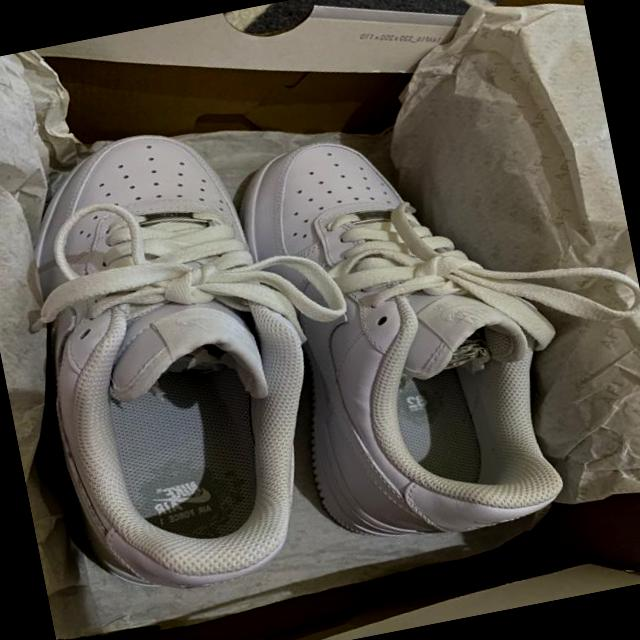nike_original_airforce: (0, 106, 349, 609), (228, 108, 582, 566)
